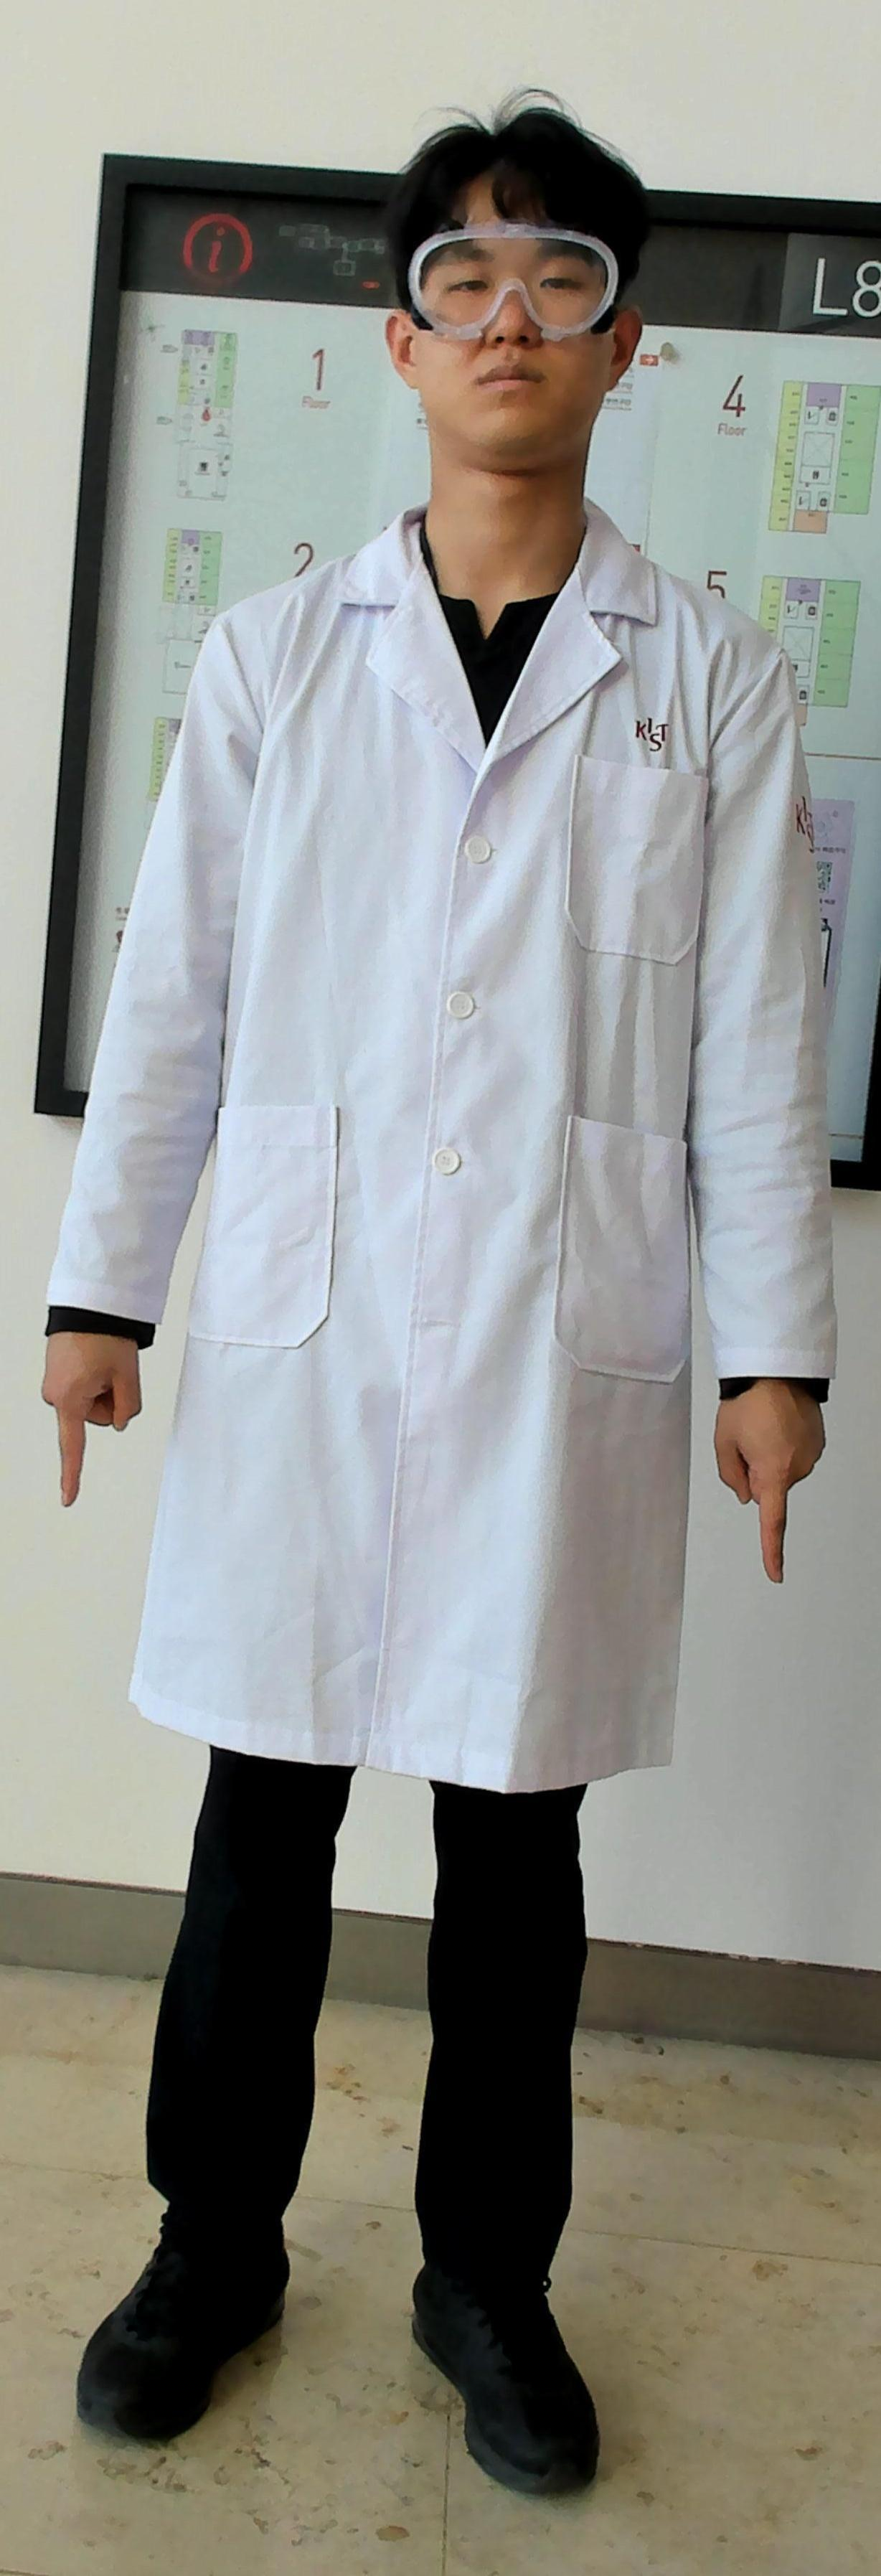lab_coat: (113, 662, 712, 1778)
